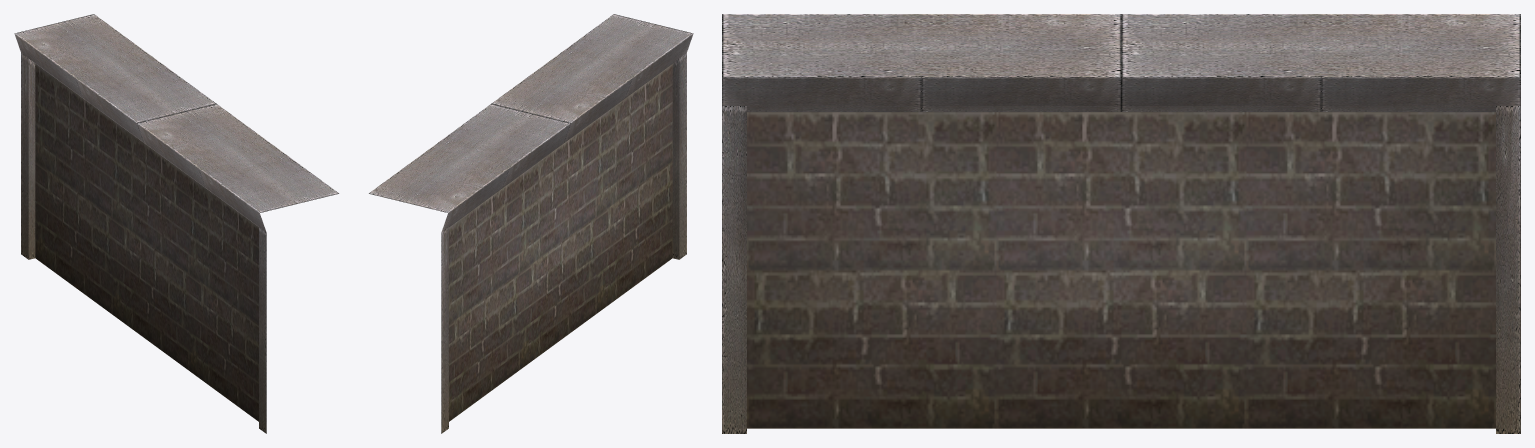
File: M10_Zone2_Wall1.glb
3 views of the same model, side by side, from view 1: azimuth 30°, elevation 25°; view 2: azimuth 150°, elevation 25°; view 3: azimuth 270°, elevation 25° (orthographic). The views are drawn at different scales.
Parts seen in each view (by area): view 1: M10_ZONE2_WALL1; view 2: M10_ZONE2_WALL1; view 3: M10_ZONE2_WALL1.
Boxes of the visible parts, x1=… form: M10_ZONE2_WALL1: x1=14, y1=14, x2=338, y2=433; M10_ZONE2_WALL1: x1=369, y1=14, x2=693, y2=433; M10_ZONE2_WALL1: x1=722, y1=14, x2=1520, y2=433.
Bounding box in the file's own units: 1.5 × 4 × 8.
2 materials, 2 textured.
